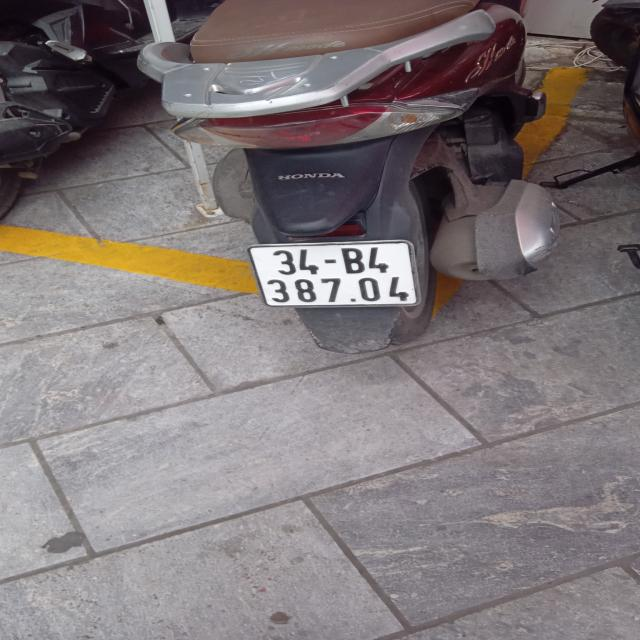License: (246, 239, 418, 308)
